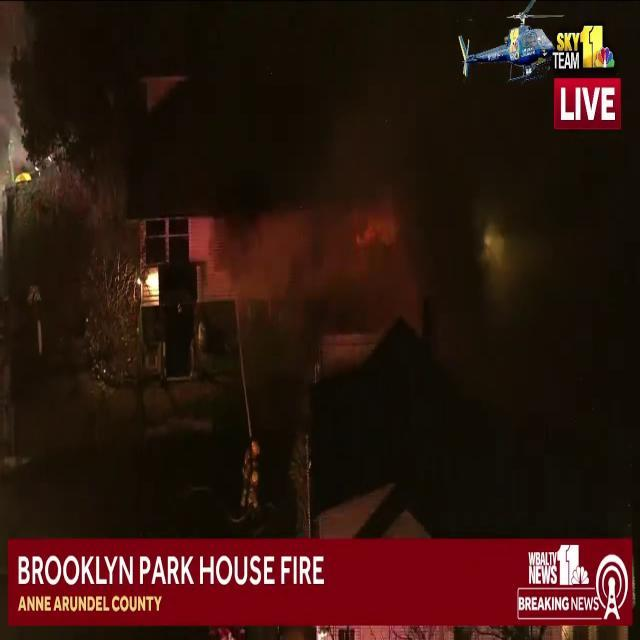Smoke: (198, 94, 433, 312)
